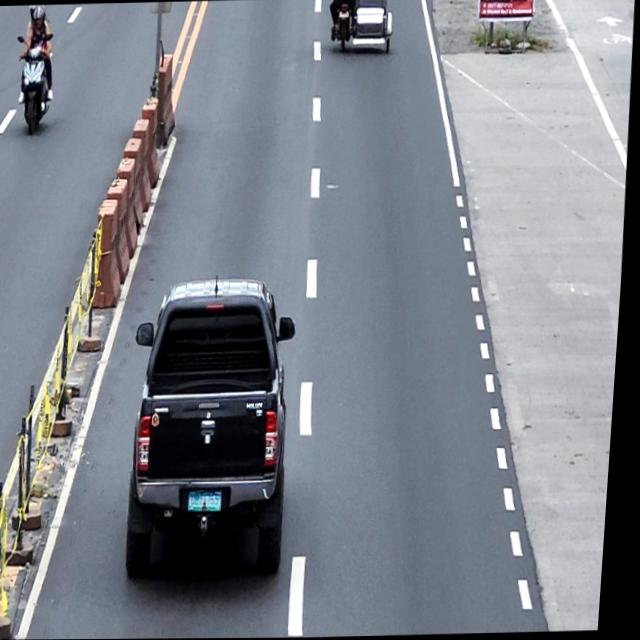Car: (125, 276, 308, 583)
License-Plate: (193, 489, 229, 513), (338, 10, 349, 19)
Motorcycle: (12, 33, 56, 134)
Tricycle: (329, 0, 395, 55)
